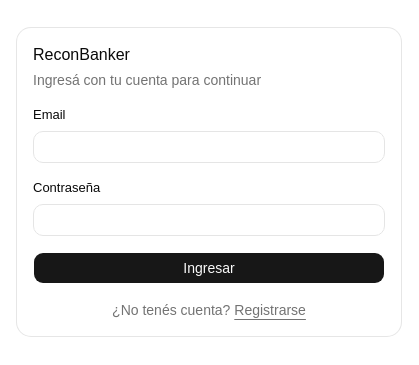
Login page › maps a server validation error on password to the password field
Type "ok@x.com" into the field labelled "Email".
click(209, 147); type("ok@x.com")  # box [33,131,385,163]
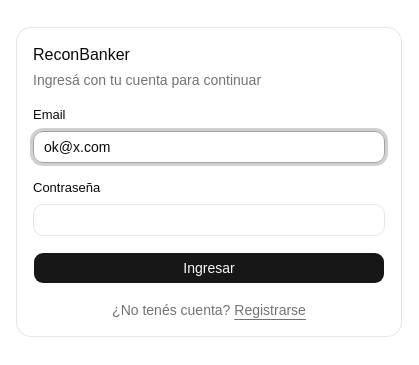
Type "good" into the password field labelled "Contraseña".
click(209, 220); type("good")  # box [33,204,385,236]
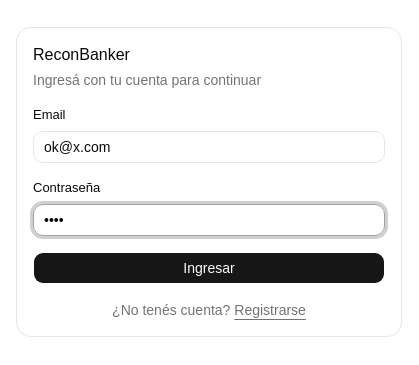
Click the button "Ingresar".
click(209, 268)  # box [33,252,385,284]
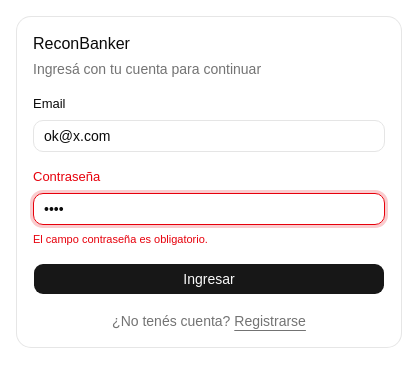
Now the text "El campo contraseña es obligatorio." is shown, box [33,231,208,247]
